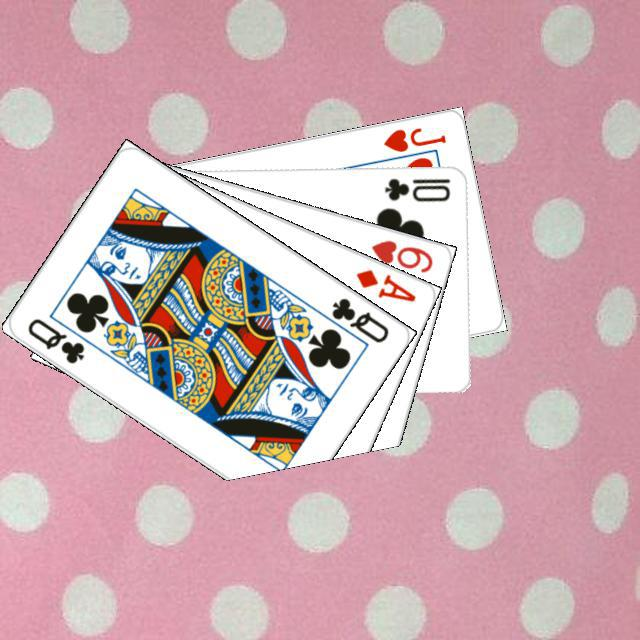10c: (380, 173, 452, 204)
6h: (366, 235, 435, 275)
Ad: (351, 264, 418, 304)
Jh: (378, 122, 448, 154)
Qc: (314, 292, 391, 351), (22, 313, 86, 366)
